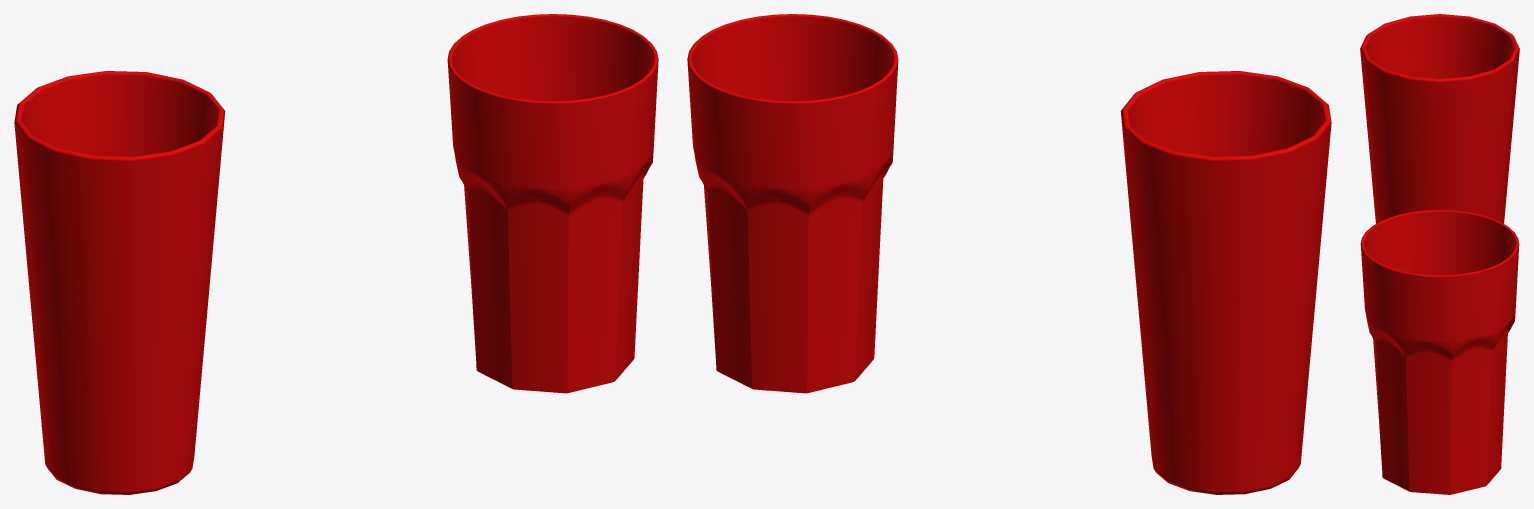
Rendered from RoboTHOR_cups_grp.fbx.
3 views of the same model, side by side, from view 1: azimuth 30°, elevation 25°; view 2: azimuth 150°, elevation 25°; view 3: azimuth 270°, elevation 25° (orthographic). The views are drawn at different scales.
Visible parts, largest first — view 1: thorkea_cup_ai2, thorkea_cup_pokal; view 2: thorkea_cup_ai2, thorkea_cup_pokal; view 3: thorkea_cup_pokal, thorkea_cup_ai2.
Boxes of the visible parts, left/top/right/bottom form: thorkea_cup_ai2: left=14, top=71, right=225, bottom=494; thorkea_cup_pokal: left=447, top=14, right=658, bottom=393; thorkea_cup_ai2: left=1120, top=71, right=1331, bottom=494; thorkea_cup_pokal: left=687, top=14, right=898, bottom=393; thorkea_cup_pokal: left=1360, top=210, right=1519, bottom=494; thorkea_cup_ai2: left=1360, top=14, right=1519, bottom=223.
Bounding box in the file's own units: 28.47 × 15.52 × 8.5.
